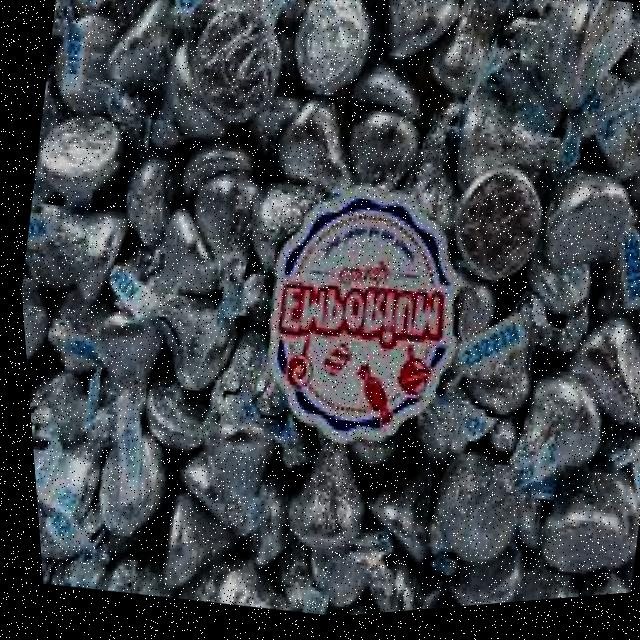kisses: (482, 365, 613, 520), (157, 421, 291, 562), (127, 34, 245, 184), (406, 443, 526, 582), (447, 87, 574, 217), (181, 0, 295, 142), (21, 99, 137, 231), (524, 161, 638, 294), (262, 439, 373, 573), (21, 186, 136, 315), (425, 0, 533, 137), (522, 465, 633, 597), (442, 169, 552, 300), (140, 281, 247, 410), (80, 423, 180, 553), (276, 0, 385, 113), (179, 165, 272, 296), (353, 451, 444, 574), (563, 65, 640, 204), (271, 96, 364, 205), (335, 104, 425, 209), (99, 0, 185, 102), (37, 293, 131, 385), (368, 0, 469, 85), (434, 556, 523, 614)
